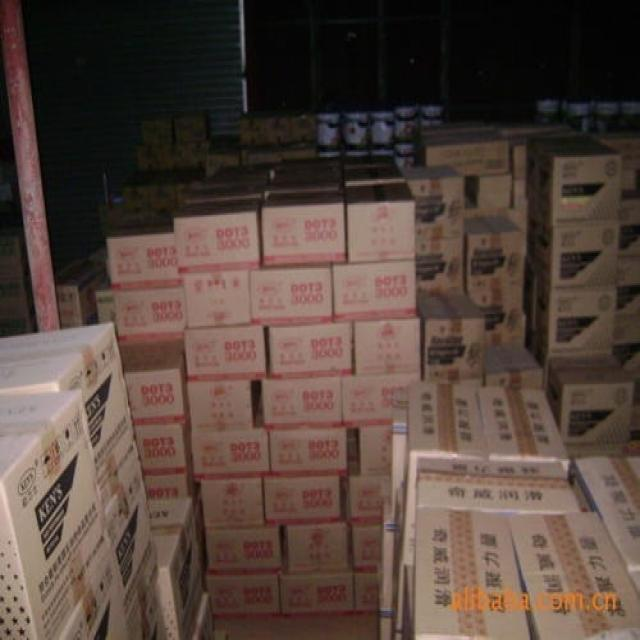box: (0, 389, 109, 640), (0, 321, 138, 509), (509, 512, 640, 640), (402, 381, 486, 567), (413, 509, 531, 640), (104, 461, 161, 630), (417, 457, 582, 515), (477, 386, 571, 476), (525, 137, 621, 225), (147, 497, 205, 640), (547, 352, 634, 444), (572, 456, 640, 570), (55, 546, 133, 640), (529, 210, 621, 288), (534, 276, 618, 358), (174, 198, 264, 273), (262, 189, 346, 266), (106, 210, 183, 290), (416, 292, 485, 377), (193, 403, 270, 478), (106, 217, 184, 290), (346, 181, 415, 263), (333, 259, 416, 321), (399, 164, 466, 239), (251, 265, 332, 326), (269, 323, 352, 379), (184, 326, 266, 382), (123, 353, 188, 422), (465, 217, 524, 290), (113, 287, 187, 345), (342, 372, 420, 427), (262, 375, 342, 428), (421, 128, 508, 176), (353, 316, 420, 375), (268, 427, 348, 476), (344, 442, 389, 527), (264, 476, 340, 526), (184, 270, 250, 327), (206, 526, 284, 573), (188, 381, 262, 430), (282, 568, 356, 616), (504, 130, 576, 179), (467, 288, 526, 346), (55, 259, 106, 326), (200, 478, 264, 531), (205, 573, 280, 616), (133, 422, 192, 476), (287, 524, 347, 573), (484, 343, 543, 389), (416, 237, 463, 287), (390, 387, 407, 521), (132, 585, 169, 640), (586, 133, 640, 169), (143, 463, 196, 497), (353, 425, 389, 474), (0, 271, 35, 317), (379, 498, 393, 608), (265, 177, 343, 196), (0, 227, 29, 278), (184, 183, 265, 201), (349, 527, 381, 572), (206, 135, 241, 176), (614, 314, 640, 369), (617, 256, 640, 314), (173, 109, 211, 142), (343, 166, 404, 186), (174, 137, 212, 169), (352, 572, 380, 614), (175, 167, 205, 205), (142, 113, 179, 143), (392, 531, 403, 631), (120, 340, 184, 357), (191, 597, 216, 640), (148, 169, 175, 208), (467, 183, 509, 208), (507, 207, 529, 253), (124, 171, 152, 207), (137, 143, 174, 169), (0, 312, 36, 338), (243, 143, 287, 164), (621, 169, 640, 217), (97, 201, 123, 236), (466, 196, 506, 218), (275, 164, 342, 177), (239, 113, 266, 145), (291, 109, 317, 142), (618, 217, 640, 254), (266, 111, 291, 143), (566, 445, 632, 457), (97, 276, 114, 321), (279, 142, 317, 162), (467, 174, 512, 189), (346, 154, 394, 167), (378, 609, 392, 640), (512, 179, 527, 207)
